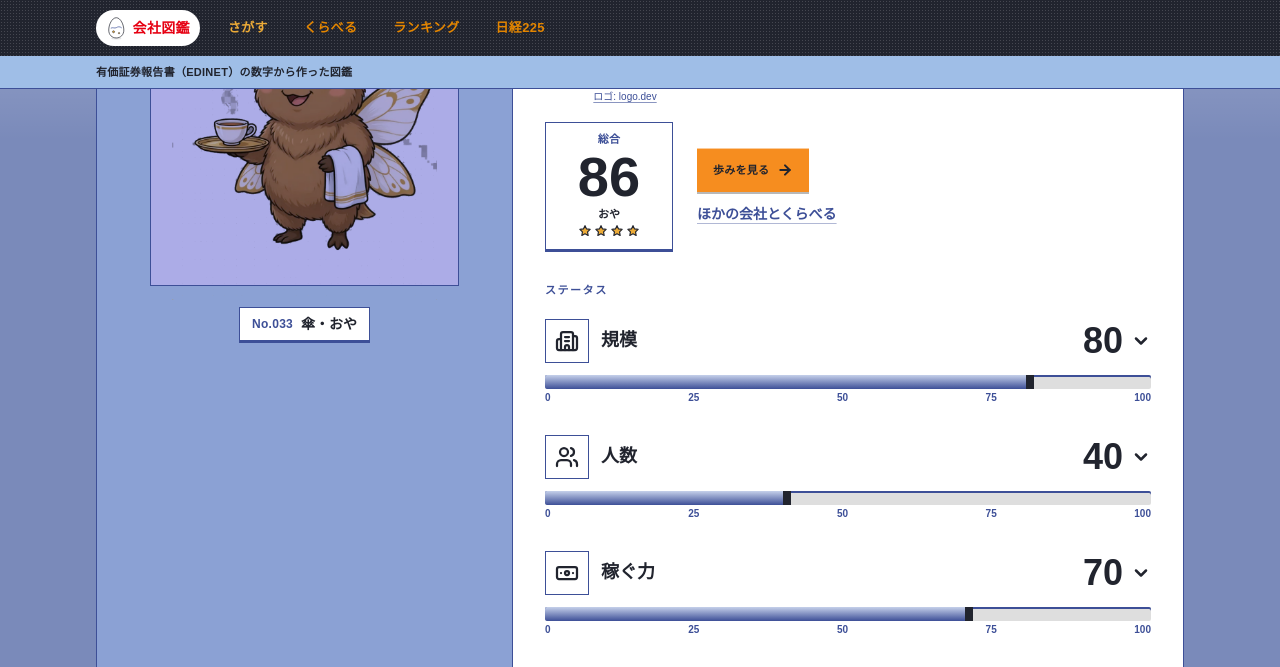
Scenario: カードを開くと有報の実数が出る
(page scrolled)
Click the button "規模 80 0 25 50 75 100": (567, 340) [545,318,1151,402]
(page scrolled)
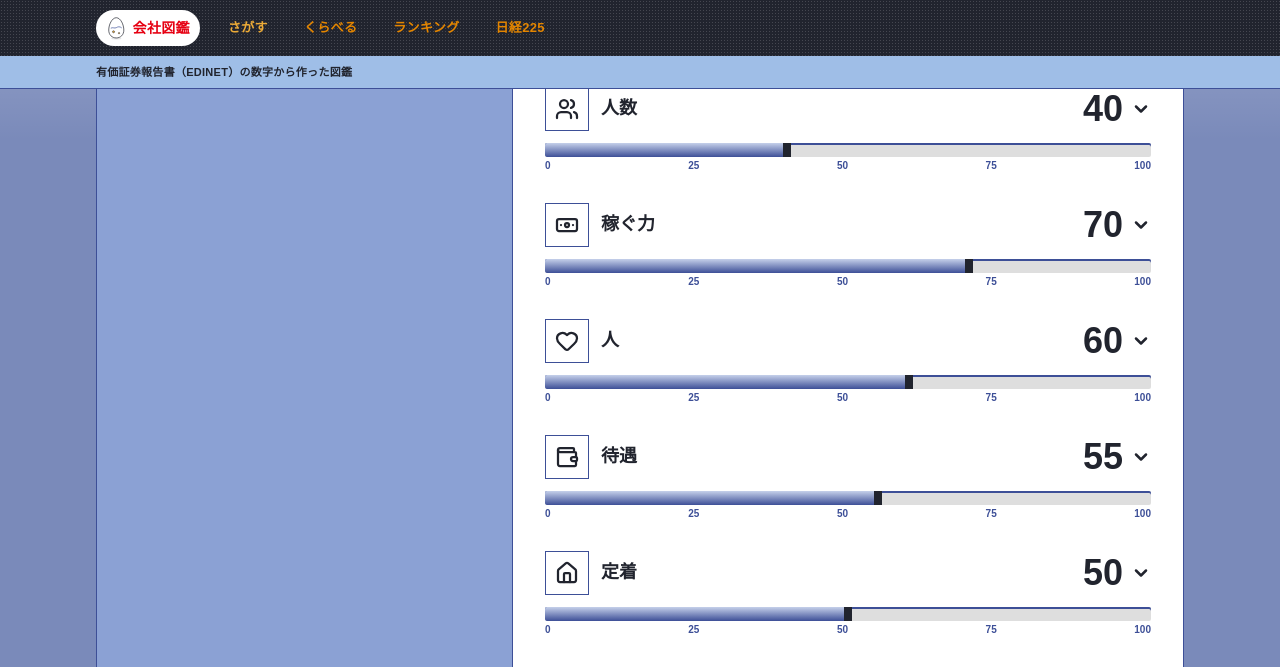
Check: the text "176.3 億円" is shown, box [562,12,677,38]
Click the button "人 60 0 25 50 75 100": (567, 340) [545,318,1151,402]
(page scrolled)
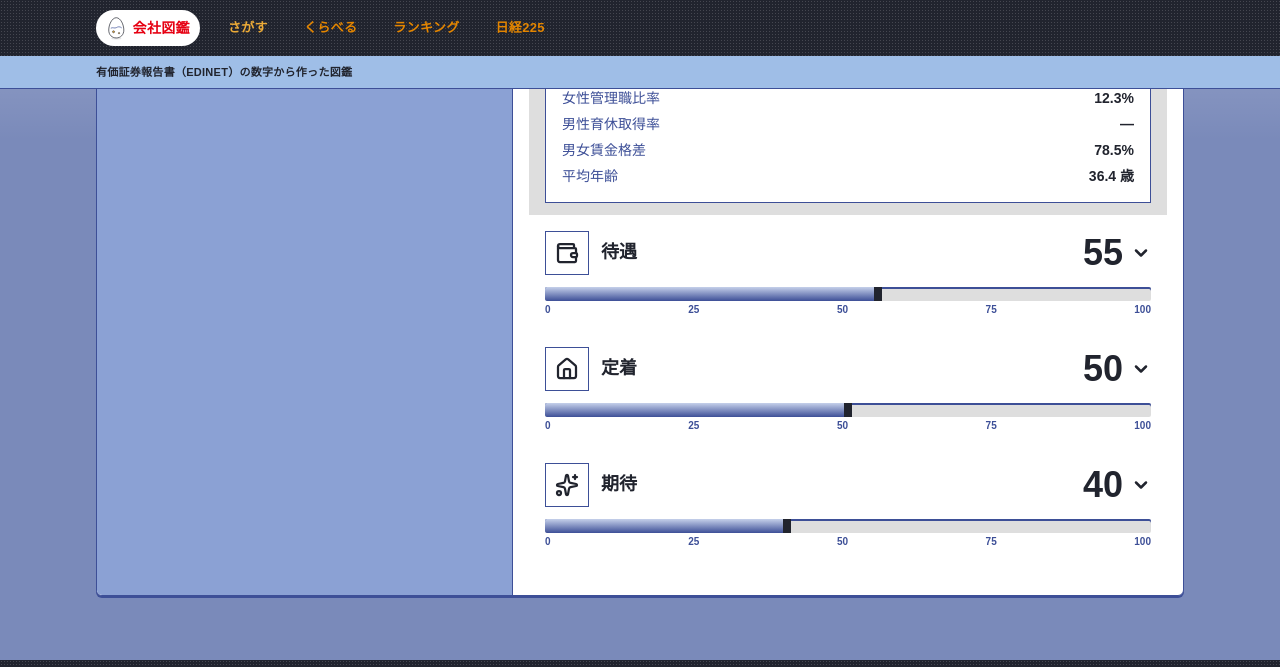
Check: the text "女性管理職比率" is shown, box [562,88,660,108]
Check: the text "12.3%" is shown, box [1094,88,1134,108]
Check: the text "36.4 歳" is shown, box [1089,166,1134,186]
Click the button "期待 40 0 25 50 75 100": (567, 484) [545,462,1151,546]
(page scrolled)
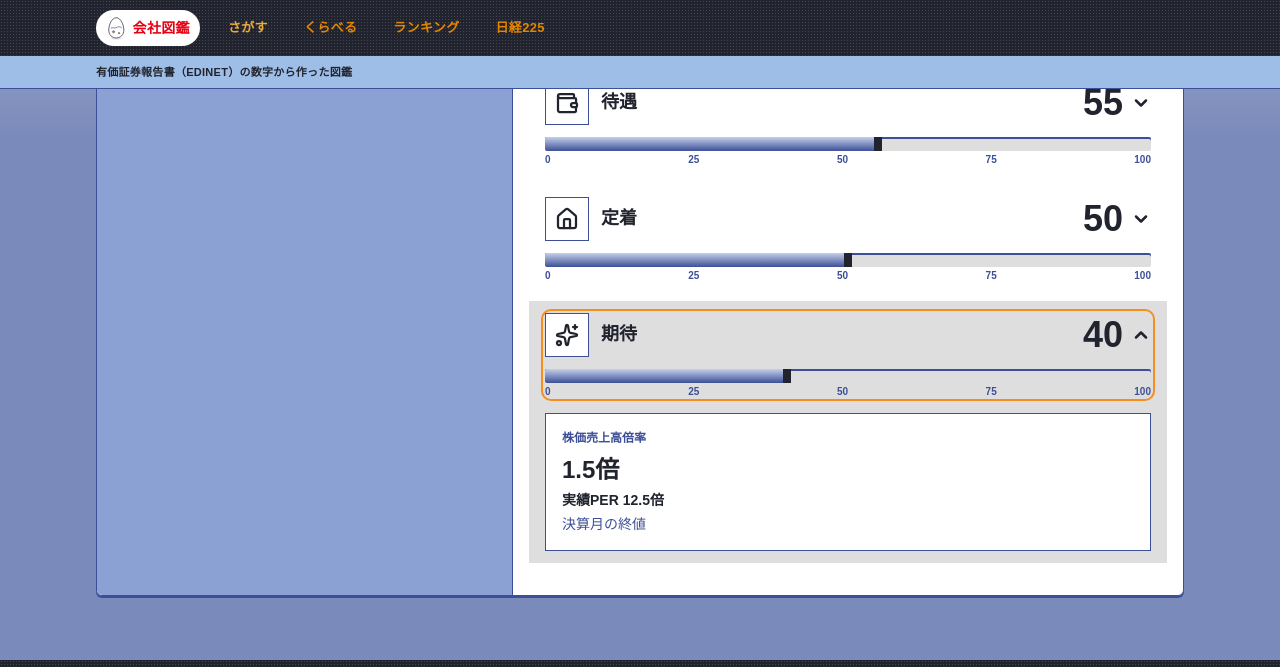
Check: the text "株価売上高倍率" is shown, box [562,430,646,444]
Check: the text "1.5倍" is shown, box [562,456,619,482]
Check: the text "実績PER 12.5倍" is shown, box [562,492,664,508]
